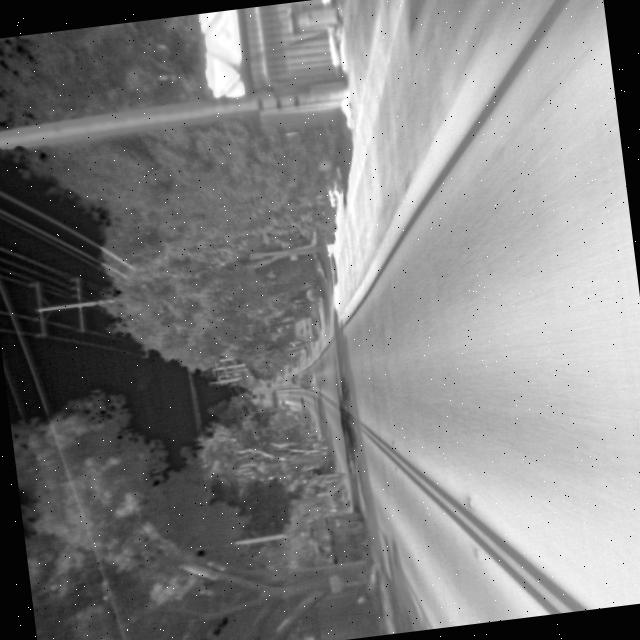Vehicle: (290, 314, 320, 345)
